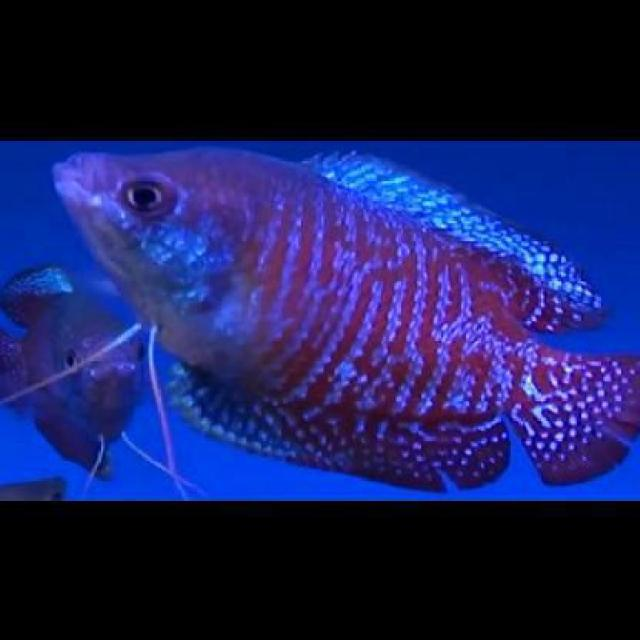Gourami: (51, 139, 638, 501)
